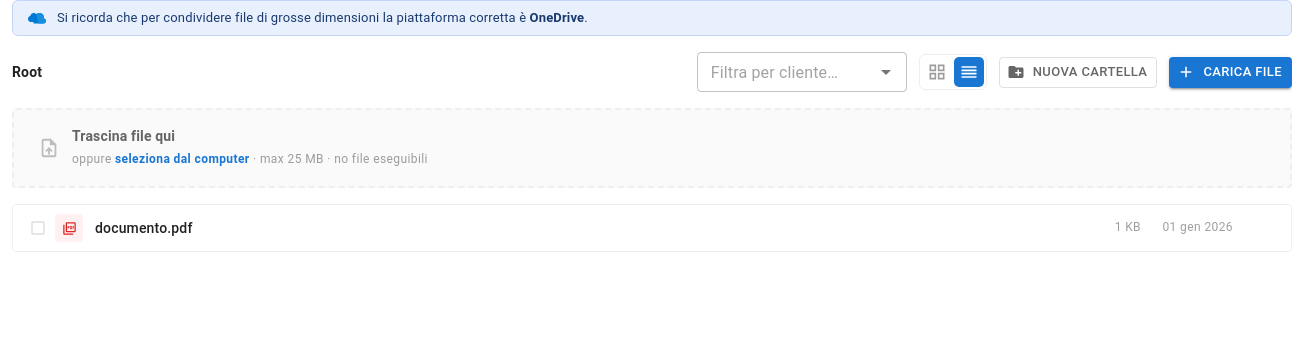
Drive page — fix P1 › seleziona un file con un solo click, senza doppio toggle (fix 7.1)
Click the checkbox named "Seleziona file documento.pdf": {"x": 38, "y": 228} left=29, top=219, right=47, bottom=237
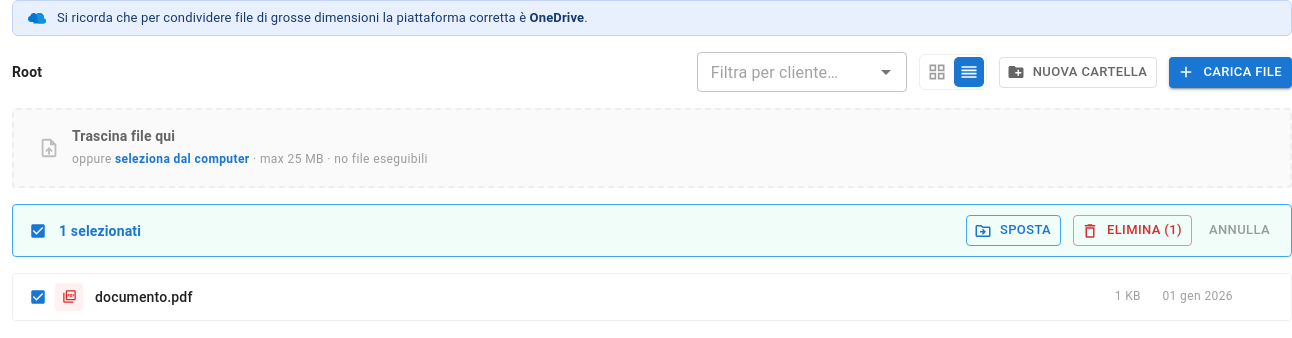
Now the text "1 selezionati" is shown, box left=59, top=223, right=141, bottom=239
